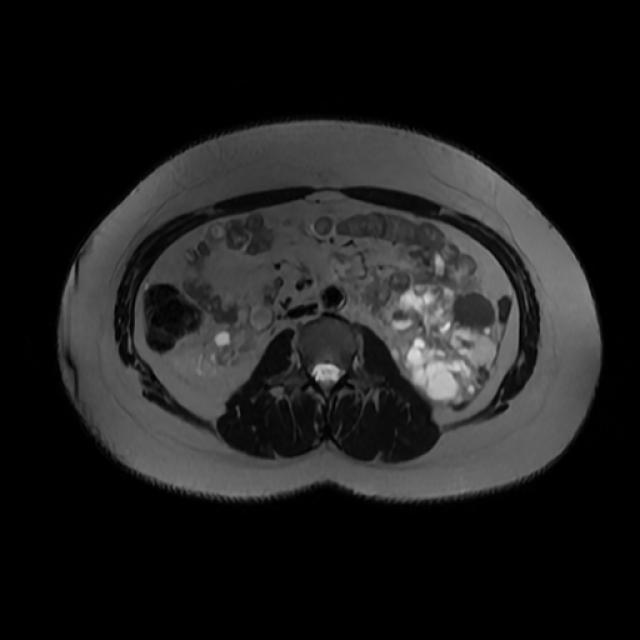sag: (201, 323, 262, 369)
sol: (389, 283, 499, 410)
